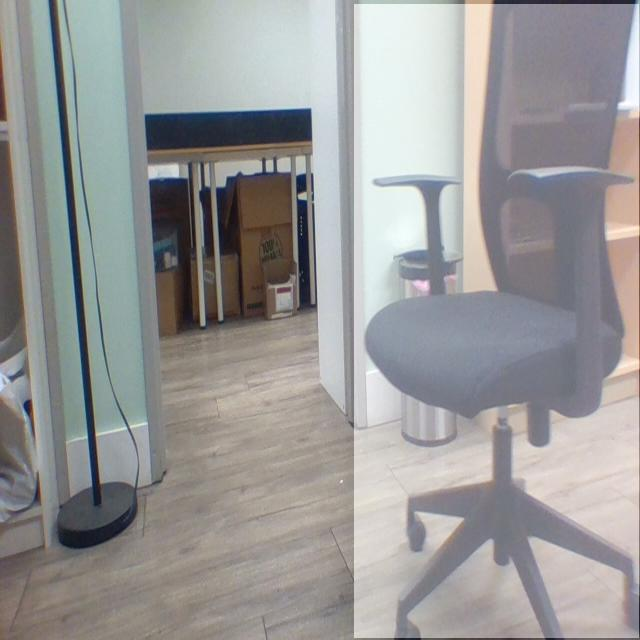black-chair: (354, 4, 640, 639)
